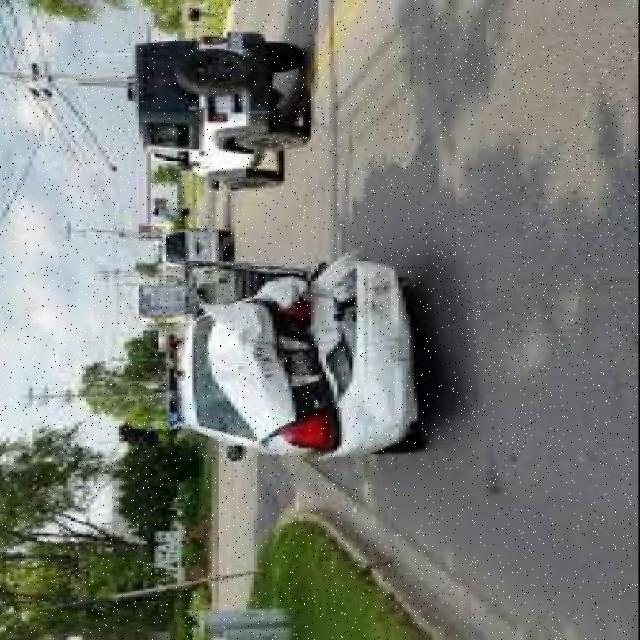damage: (206, 251, 415, 439)
